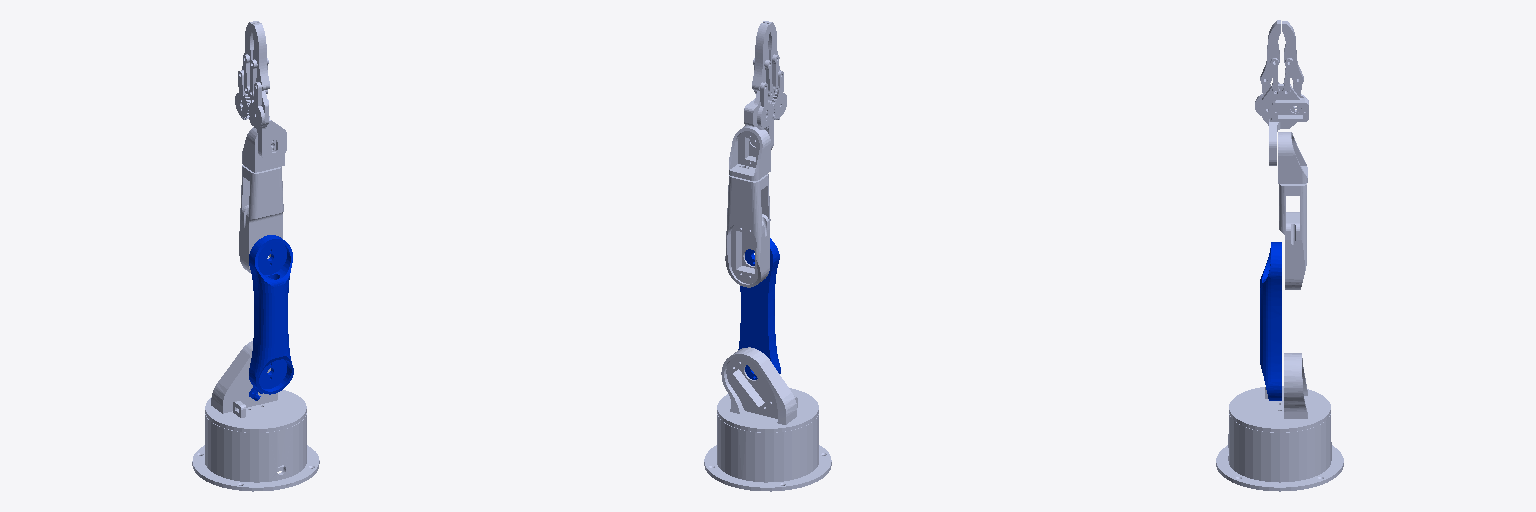
--- What the picture shows (computed from the rendered views, not written in the file) ---
Views: 3 orthographic renders of the robot side by side, from view 1: azimuth 30°, elevation 25°; view 2: azimuth 150°, elevation 25°; view 3: azimuth 270°, elevation 25°.
Robot: maa_robo — 15 links, 14 joints (6 revolute, 7 continuous, 1 fixed); root link world; default pose: every joint at zero.
Links seen in each view (by area): view 1: base, l1, waist, l2, gbase, wrist, e2; view 2: base, waist, l2, l1, wrist, e1, gbase; view 3: base, waist, l1, l2, gbase, wrist, e1, e2.
Link boxes in pixels (x1,y1,x2,y2): base: [192, 413, 319, 491]; l1: [249, 235, 293, 400]; waist: [205, 341, 306, 432]; l2: [239, 165, 283, 272]; gbase: [247, 82, 286, 160]; wrist: [242, 127, 284, 172]; e2: [252, 22, 269, 90]; base: [704, 414, 831, 491]; waist: [717, 347, 818, 432]; l2: [725, 174, 770, 287]; l1: [738, 238, 780, 379]; wrist: [729, 125, 770, 180]; e1: [752, 23, 769, 90]; gbase: [744, 82, 774, 149]; base: [1216, 414, 1343, 491]; waist: [1229, 353, 1330, 432]; l1: [1260, 242, 1281, 400]; l2: [1279, 183, 1306, 289]; gbase: [1262, 84, 1308, 165]; wrist: [1278, 132, 1307, 183]; e1: [1282, 21, 1303, 84]; e2: [1260, 20, 1280, 84].
Size in the robot's own frame: 0.1213 by 0.1213 by 0.4638 metres.
Meshes: 14 distinct files referenced, 14 mesh visuals loaded (14 binary STL).

URDF robot description (maa_robo):
<?xml version="1.0" encoding="utf-8" ?>
<!-- This URDF was automatically created by SolidWorks to URDF Exporter! Originally created by Stephen Brawner ([email redacted]) 
     Commit Version: 1.6.0-4-g7f85cfe  Build Version: 1.6.7995.38578
     For more information, please see http://wiki.ros.org/sw_urdf_exporter -->
<robot name="maa_robo">
    <link name="world" />
    <joint name="base_joint" type="fixed">
        <parent link="world" />
        <child link="base" />
        <origin rpy="0 0 0" xyz="0.0 0.0 0.0" />
    </joint>
    <link name="base">
        <inertial>
            <origin xyz="7.68725237632051E-09 -0.000117196159259848 0.0223035726629275" rpy="0 0 0" />
            <mass value="0.0960374647687132" />
            <inertia ixx="0.000137660900428952" ixy="-6.84507669729897E-11" ixz="4.47337777543071E-12" iyy="0.000127992374265441" iyz="-3.9139675561881E-06" izz="0.000207983638444363" />
        </inertial>
        <visual>
            <origin xyz="0 0 0" rpy="0 0 0" />
            <geometry>
                <mesh filename="package://maa_robo/meshes/base.STL" />
            </geometry>
            <material name="">
                <color rgba="0.792156862745098 0.819607843137255 0.933333333333333 1" />
            </material>
        </visual>
        <collision>
            <origin xyz="0 0 0" rpy="0 0 0" />
            <geometry>
                <mesh filename="package://maa_robo/meshes/base.STL" />
            </geometry>
        </collision>
    </link>
    <link name="waist">
        <inertial>
            <origin xyz="0.00137198894444329 0.00643461749228535 0.0172894151625552" rpy="0 0 0" />
            <mass value="0.0680383082919642" />
            <inertia ixx="4.50177278884508E-05" ixy="-6.41756883366727E-07" ixz="-6.242745329176E-06" iyy="5.81331875484946E-05" iyz="-5.17766096312002E-06" izz="5.46763891539818E-05" />
        </inertial>
        <visual>
            <origin xyz="0 0 0" rpy="0 0 0" />
            <geometry>
                <mesh filename="package://maa_robo/meshes/waist.STL" />
            </geometry>
            <material name="">
                <color rgba="0.792156862745098 0.819607843137255 0.933333333333333 1" />
            </material>
        </visual>
        <collision>
            <origin xyz="0 0 0" rpy="0 0 0" />
            <geometry>
                <mesh filename="package://maa_robo/meshes/waist.STL" />
            </geometry>
        </collision>
    </link>
    <joint name="base_waist" type="revolute">
        <origin xyz="0 0 0.056" rpy="0 0 0" />
        <parent link="base" />
        <child link="waist" />
        <axis xyz="0 0 1" />
        <limit lower="-1.57" upper="1.57" effort="100" velocity="10" />
    </joint>
    <link name="l1">
        <inertial>
            <origin xyz="-0.000130106407256289 -0.00596879502387518 0.0585900559342434" rpy="0 0 0" />
            <mass value="0.0643926898356934" />
            <inertia ixx="0.000107038199873111" ixy="-2.38430401316143E-10" ixz="-1.65474705517812E-09" iyy="0.000111844791276673" iyz="-2.39605334002934E-07" izz="9.10999555994351E-06" />
        </inertial>
        <visual>
            <origin xyz="0 0 0" rpy="0 0 0" />
            <geometry>
                <mesh filename="package://maa_robo/meshes/l1.STL" />
            </geometry>
            <material name="">
                <color rgba="0 0.254901960784314 0.92156862745098 1" />
            </material>
        </visual>
        <collision>
            <origin xyz="0 0 0" rpy="0 0 0" />
            <geometry>
                <mesh filename="package://maa_robo/meshes/l1.STL" />
            </geometry>
        </collision>
    </link>
    <joint name="waist_l1" type="revolute">
        <origin xyz="0.0139185063019886 0 0.0402764801759331" rpy="0 0 0" />
        <parent link="waist" />
        <child link="l1" />
        <axis xyz="0 -1 0" />
        <limit lower="-1.57" upper="1.57" effort="100" velocity="10" />
    </joint>
    <link name="l2">
        <inertial>
            <origin xyz="-2.78467675450256E-05 0.0124088533653967 0.0392853069242696" rpy="0 0 0" />
            <mass value="0.0502682806615447" />
            <inertia ixx="5.46008375858883E-05" ixy="5.45448123955486E-11" ixz="6.95836541632603E-08" iyy="5.81489722176159E-05" iyz="-2.87532410943136E-07" izz="9.28677087867067E-06" />
        </inertial>
        <visual>
            <origin xyz="0 0 0" rpy="0 0 0" />
            <geometry>
                <mesh filename="package://maa_robo/meshes/l2.STL" />
            </geometry>
            <material name="">
                <color rgba="0.792156862745098 0.819607843137255 0.933333333333333 1" />
            </material>
        </visual>
        <collision>
            <origin xyz="0 0 0" rpy="0 0 0" />
            <geometry>
                <mesh filename="package://maa_robo/meshes/l2.STL" />
            </geometry>
        </collision>
    </link>
    <joint name="l1_l2" type="revolute">
        <origin xyz="0 0 0.12" rpy="0 0 0" />
        <parent link="l1" />
        <child link="l2" />
        <axis xyz="0 -1 0" />
        <limit lower="-1.57" upper="1.57" effort="100" velocity="10" />
    </joint>
    <link name="wrist">
        <inertial>
            <origin xyz="-0.00504588853149997 -0.00526464962477612 0.0178410779408339" rpy="0 0 0" />
            <mass value="0.0164993958869603" />
            <inertia ixx="3.91219989876637E-06" ixy="3.98661484984632E-09" ixz="-1.15840362114129E-08" iyy="5.02234105520811E-06" iyz="5.75786773493404E-07" izz="2.61243222808143E-06" />
        </inertial>
        <visual>
            <origin xyz="0 0 0" rpy="0 0 0" />
            <geometry>
                <mesh filename="package://maa_robo/meshes/wrist.STL" />
            </geometry>
            <material name="">
                <color rgba="0.792156862745098 0.819607843137255 0.933333333333333 1" />
            </material>
        </visual>
        <collision>
            <origin xyz="0 0 0" rpy="0 0 0" />
            <geometry>
                <mesh filename="package://maa_robo/meshes/wrist.STL" />
            </geometry>
        </collision>
    </link>
    <joint name="l2_wrist" type="revolute">
        <origin xyz="0.00510000000056034 0.0125 0.0915999999999688" rpy="0 0 0" />
        <parent link="l2" />
        <child link="wrist" />
        <axis xyz="0 0 1" />
        <limit lower="-1.57" upper="1.57" effort="100" velocity="10" />
    </joint>
    <link name="gbase">
        <inertial>
            <origin xyz="-0.00581676000557846 -0.0133733926702193 0.023551132424968" rpy="0 0 0" />
            <mass value="0.0157214039263101" />
            <inertia ixx="8.11576233259366E-06" ixy="3.50347396819704E-07" ixz="1.36413018972221E-06" iyy="7.24744386013897E-06" iyz="-1.4285481948546E-06" izz="2.56045826172451E-06" />
        </inertial>
        <visual>
            <origin xyz="0 0 0" rpy="0 0 0" />
            <geometry>
                <mesh filename="package://maa_robo/meshes/gbase.STL" />
            </geometry>
            <material name="">
                <color rgba="0.792156862745098 0.819607843137255 0.933333333333333 1" />
            </material>
        </visual>
        <collision>
            <origin xyz="0 0 0" rpy="0 0 0" />
            <geometry>
                <mesh filename="package://maa_robo/meshes/gbase.STL" />
            </geometry>
        </collision>
    </link>
    <joint name="wrist_gbase" type="revolute">
        <origin xyz="-0.00499999999982817 0 0.0280999999985383" rpy="0 0 0" />
        <parent link="wrist" />
        <child link="gbase" />
        <axis xyz="0 -1 0" />
        <limit lower="-1.57" upper="1.57" effort="100" velocity="10" />
    </joint>
    <link name="g1">
        <inertial>
            <origin xyz="-0.00199999999683453 -0.000161235027441656 0.00569538349082349" rpy="0 0 0" />
            <mass value="0.00256585966934385" />
            <inertia ixx="4.46162551545415E-07" ixy="-1.20130144310868E-18" ixz="-9.67479293293822E-18" iyy="3.60124622567171E-07" iyz="-3.07394390301934E-08" izz="9.28802214298281E-08" />
        </inertial>
        <visual>
            <origin xyz="0 0 0" rpy="0 0 0" />
            <geometry>
                <mesh filename="package://maa_robo/meshes/g1.STL" />
            </geometry>
            <material name="">
                <color rgba="0.792156862745098 0.819607843137255 0.933333333333333 1" />
            </material>
        </visual>
        <collision>
            <origin xyz="0 0 0" rpy="0 0 0" />
            <geometry>
                <mesh filename="package://maa_robo/meshes/g1.STL" />
            </geometry>
        </collision>
    </link>
    <joint name="gbase_g1" type="revolute">
        <origin xyz="-0.0174999999994603 0.00255000000000001 0.0380000000001071" rpy="0 0 0" />
        <parent link="gbase" />
        <child link="g1" />
        <axis xyz="-1 0 0" />
        <limit lower="0" upper="1.2" effort="100" velocity="10" />
    </joint>
    <link name="e1">
        <inertial>
            <origin xyz="0.00824997740859393 -0.00641733113152839 0.0265001380598517" rpy="0 0 0" />
            <mass value="0.00539747144897691" />
            <inertia ixx="1.71391043056579E-06" ixy="-1.39870677399308E-11" ixz="1.08370914619553E-12" iyy="1.64752389372081E-06" iyz="2.52446907551089E-07" izz="1.31381061776948E-07" />
        </inertial>
        <visual>
            <origin xyz="0 0 0" rpy="0 0 0" />
            <geometry>
                <mesh filename="package://maa_robo/meshes/e1.STL" />
            </geometry>
            <material name="">
                <color rgba="0.792156862745098 0.819607843137255 0.933333333333333 1" />
            </material>
        </visual>
        <collision>
            <origin xyz="0 0 0" rpy="0 0 0" />
            <geometry>
                <mesh filename="package://maa_robo/meshes/e1.STL" />
            </geometry>
        </collision>
    </link>
    <joint name="g1_e1" type="continuous">
        <origin xyz="-0.00399999999556312 0.00239679273381367 0.0306564493153397" rpy="0 0 0" />
        <parent link="g1" />
        <child link="e1" />
        <axis xyz="1 0 0" />
        <limit lower="-1.57" upper="1.57" effort="100" velocity="10" />
        <mimic joint="gbase_g1" multiplier="1" offset="0" />
    </joint>
    <link name="g2">
        <inertial>
            <origin xyz="-0.00199999999585265 0.000286426960356828 0.00560381935948695" rpy="0 0 0" />
            <mass value="0.00264161328462974" />
            <inertia ixx="4.47239667493299E-07" ixy="2.99284283016667E-19" ixz="-9.49077022501083E-18" iyy="3.62323596177571E-07" iyz="2.46355432043757E-08" izz="9.19603734080734E-08" />
        </inertial>
        <visual>
            <origin xyz="0 0 0" rpy="0 0 0" />
            <geometry>
                <mesh filename="package://maa_robo/meshes/g2.STL" />
            </geometry>
            <material name="">
                <color rgba="0.792156862745098 0.819607843137255 0.933333333333333 1" />
            </material>
        </visual>
        <collision>
            <origin xyz="0 0 0" rpy="0 0 0" />
            <geometry>
                <mesh filename="package://maa_robo/meshes/g2.STL" />
            </geometry>
        </collision>
    </link>
    <joint name="gbase_g2" type="continuous">
        <origin xyz="-0.0175000000005596 -0.024350000000004 0.0380000000000114" rpy="0 0 0" />
        <parent link="gbase" />
        <child link="g2" />
        <axis xyz="-1 0 0" />
        <limit lower="-1.57" upper="1.57" effort="100" velocity="10" />
        <mimic joint="gbase_g1" multiplier="-1" offset="0" />
    </joint>
    <link name="e2">
        <inertial>
            <origin xyz="0.00825002259168447 0.00627581448406113 0.0265340084729163" rpy="0 0 0" />
            <mass value="0.00539747142778352" />
            <inertia ixx="1.71391041628828E-06" ixy="-1.39809990450883E-11" ixz="-1.1586024557424E-12" iyy="1.65017517269228E-06" iyz="-2.44341343971673E-07" izz="1.28729768374852E-07" />
        </inertial>
        <visual>
            <origin xyz="0 0 0" rpy="0 0 0" />
            <geometry>
                <mesh filename="package://maa_robo/meshes/e2.STL" />
            </geometry>
            <material name="">
                <color rgba="0.792156862745098 0.819607843137255 0.933333333333333 1" />
            </material>
        </visual>
        <collision>
            <origin xyz="0 0 0" rpy="0 0 0" />
            <geometry>
                <mesh filename="package://maa_robo/meshes/e2.STL" />
            </geometry>
        </collision>
    </link>
    <joint name="g2_e2" type="continuous">
        <origin xyz="-0.00399999999461456 -0.00173398551481527 0.030701071549261" rpy="0 0 0" />
        <parent link="g2" />
        <child link="e2" />
        <axis xyz="-1 0 0" />
        <limit lower="-1.57" upper="1.57" effort="100" velocity="10" />
        <mimic joint="gbase_g1" multiplier="1" offset="0" />
    </joint>
    <link name="s1">
        <inertial>
            <origin xyz="-0.00199999999495828 0.00132555466767997 0.0154432154954331" rpy="0 0 0" />
            <mass value="0.000798762413184692" />
            <inertia ixx="1.04424225659604E-07" ixy="-2.38140373087695E-19" ixz="-2.73949753414788E-18" iyy="1.02195591529061E-07" iyz="-8.46007494223569E-09" izz="4.35866723236837E-09" />
        </inertial>
        <visual>
            <origin xyz="0 0 0" rpy="0 0 0" />
            <geometry>
                <mesh filename="package://maa_robo/meshes/s1.STL" />
            </geometry>
            <material name="">
                <color rgba="0.792156862745098 0.819607843137255 0.933333333333333 1" />
            </material>
        </visual>
        <collision>
            <origin xyz="0 0 0" rpy="0 0 0" />
            <geometry>
                <mesh filename="package://maa_robo/meshes/s1.STL" />
            </geometry>
        </collision>
    </link>
    <joint name="gbase_s1" type="continuous">
        <origin xyz="-0.0175000000005648 -0.00635000000000067 0.0580000000000249" rpy="0 0 0" />
        <parent link="gbase" />
        <child link="s1" />
        <axis xyz="-1 0 0" />
        <limit lower="-1.57" upper="1.57" effort="100" velocity="10" />
        <mimic joint="gbase_g1" multiplier="1" offset="0" />
    </joint>
    <link name="s2">
        <inertial>
            <origin xyz="-0.00200000000129294 -0.000598194042163623 0.0154884525982406" rpy="0 0 0" />
            <mass value="0.000798762413184691" />
            <inertia ixx="1.04424225659604E-07" ixy="9.6313402214335E-20" ixz="-2.70212808107845E-18" iyy="1.02773869920507E-07" iyz="3.82903159087908E-09" izz="3.78038884092272E-09" />
        </inertial>
        <visual>
            <origin xyz="0 0 0" rpy="0 0 0" />
            <geometry>
                <mesh filename="package://maa_robo/meshes/s2.STL" />
            </geometry>
            <material name="">
                <color rgba="0.792156862745098 0.819607843137255 0.933333333333333 1" />
            </material>
        </visual>
        <collision>
            <origin xyz="0 0 0" rpy="0 0 0" />
            <geometry>
                <mesh filename="package://maa_robo/meshes/s2.STL" />
            </geometry>
        </collision>
    </link>
    <joint name="gbase_s2" type="continuous">
        <origin xyz="-0.0175 -0.01635 0.058" rpy="0 0 0" />
        <parent link="gbase" />
        <child link="s2" />
        <axis xyz="-1 0 0" />
        <limit lower="-1.57" upper="1.57" effort="100" velocity="10" />
        <mimic joint="gbase_g1" multiplier="-1" offset="0" />
    </joint>
    <link name="s3">
        <inertial>
            <origin xyz="-0.00200000000128649 0.00132555466771932 0.0154432154949791" rpy="0 0 0" />
            <mass value="0.000798762413184691" />
            <inertia ixx="1.04424225659603E-07" ixy="-2.38133840302571E-19" ixz="-2.73947547103814E-18" iyy="1.02195591529061E-07" iyz="-8.46007494223565E-09" izz="4.35866723236836E-09" />
        </inertial>
        <visual>
            <origin xyz="0 0 0" rpy="0 0 0" />
            <geometry>
                <mesh filename="package://maa_robo/meshes/s3.STL" />
            </geometry>
            <material name="">
                <color rgba="0.792156862745098 0.819607843137255 0.933333333333333 1" />
            </material>
        </visual>
        <collision>
            <origin xyz="0 0 0" rpy="0 0 0" />
            <geometry>
                <mesh filename="package://maa_robo/meshes/s3.STL" />
            </geometry>
        </collision>
    </link>
    <joint name="gbase_s3" type="continuous">
        <origin xyz="-0.005 -0.00635 0.058" rpy="0 0 0" />
        <parent link="gbase" />
        <child link="s3" />
        <axis xyz="-1 0 0" />
        <limit lower="-1.57" upper="1.57" effort="100" velocity="10" />
        <mimic joint="gbase_g1" multiplier="1" offset="0" />
    </joint>
    <link name="s4">
        <inertial>
            <origin xyz="-0.00200000000129294 -0.000598194042156296 0.0154884525982762" rpy="0 0 0" />
            <mass value="0.000798762413184692" />
            <inertia ixx="1.04424225659604E-07" ixy="9.63110016081955E-20" ixz="-2.70211063966424E-18" iyy="1.02773869920507E-07" iyz="3.82903159087907E-09" izz="3.78038884092272E-09" />
        </inertial>
        <visual>
            <origin xyz="0 0 0" rpy="0 0 0" />
            <geometry>
                <mesh filename="package://maa_robo/meshes/s4.STL" />
            </geometry>
            <material name="">
                <color rgba="0.792156862745098 0.819607843137255 0.933333333333333 1" />
            </material>
        </visual>
        <collision>
            <origin xyz="0 0 0" rpy="0 0 0" />
            <geometry>
                <mesh filename="package://maa_robo/meshes/s4.STL" />
            </geometry>
        </collision>
    </link>
    <joint name="gbase_s4" type="continuous">
        <origin xyz="-0.00499999999428026 -0.0163500000000442 0.0580000000001468" rpy="0 0 0" />
        <parent link="gbase" />
        <child link="s4" />
        <axis xyz="-1 0 0" />
        <limit lower="-1.57" upper="1.57" effort="100" velocity="10" />
        <mimic joint="gbase_g1" multiplier="-1" offset="0" />
    </joint>
    <transmission name="waist_trans">
        <type>transmission_interface/SimpleTransmission</type>
        <joint name="base_waist">
            <hardwareInterface>hardware_interface/PositionJointInterface</hardwareInterface>
        </joint>
        <actuator name="waist_motor">
            <hardwareInterface>hardware_interface/PositionJointInterface</hardwareInterface>
            <mechanicalReduction>1</mechanicalReduction>
        </actuator>
    </transmission>
    <transmission name="l1_trans">
        <type>transmission_interface/SimpleTransmission</type>
        <joint name="waist_l1">
            <hardwareInterface>hardware_interface/PositionJointInterface</hardwareInterface>
        </joint>
        <actuator name="l1_motor">
            <hardwareInterface>hardware_interface/PositionJointInterface</hardwareInterface>
            <mechanicalReduction>1</mechanicalReduction>
        </actuator>
    </transmission>
    <transmission name="l2_trans">
        <type>transmission_interface/SimpleTransmission</type>
        <joint name="l1_l2">
            <hardwareInterface>hardware_interface/PositionJointInterface</hardwareInterface>
        </joint>
        <actuator name="l2_motor">
            <hardwareInterface>hardware_interface/PositionJointInterface</hardwareInterface>
            <mechanicalReduction>1</mechanicalReduction>
        </actuator>
    </transmission>
    <transmission name="wrist_trans">
        <type>transmission_interface/SimpleTransmission</type>
        <joint name="l2_wrist">
            <hardwareInterface>hardware_interface/PositionJointInterface</hardwareInterface>
        </joint>
        <actuator name="wrist_motor">
            <hardwareInterface>hardware_interface/PositionJointInterface</hardwareInterface>
            <mechanicalReduction>1</mechanicalReduction>
        </actuator>
    </transmission>
    <transmission name="gbase_trans">
        <type>transmission_interface/SimpleTransmission</type>
        <joint name="wrist_gbase">
            <hardwareInterface>hardware_interface/PositionJointInterface</hardwareInterface>
        </joint>
        <actuator name="gbase_motor">
            <hardwareInterface>hardware_interface/PositionJointInterface</hardwareInterface>
            <mechanicalReduction>1</mechanicalReduction>
        </actuator>
    </transmission>
    <transmission name="g1_trans">
        <type>transmission_interface/SimpleTransmission</type>
        <joint name="gbase_g1">
            <hardwareInterface>hardware_interface/PositionJointInterface</hardwareInterface>
        </joint>
        <actuator name="g1_motor">
            <hardwareInterface>hardware_interface/PositionJointInterface</hardwareInterface>
            <mechanicalReduction>1</mechanicalReduction>
        </actuator>
    </transmission>
    <transmission name="e1_trans">
        <type>transmission_interface/SimpleTransmission</type>
        <joint name="g1_e1">
            <hardwareInterface>hardware_interface/PositionJointInterface</hardwareInterface>
        </joint>
        <actuator name="e1_motor">
            <hardwareInterface>hardware_interface/PositionJointInterface</hardwareInterface>
            <mechanicalReduction>1</mechanicalReduction>
        </actuator>
    </transmission>
    <transmission name="g2_trans">
        <type>transmission_interface/SimpleTransmission</type>
        <joint name="gbase_g2">
            <hardwareInterface>hardware_interface/PositionJointInterface</hardwareInterface>
        </joint>
        <actuator name="g2_motor">
            <hardwareInterface>hardware_interface/PositionJointInterface</hardwareInterface>
            <mechanicalReduction>1</mechanicalReduction>
        </actuator>
    </transmission>
    <transmission name="e2_trans">
        <type>transmission_interface/SimpleTransmission</type>
        <joint name="g2_e2">
            <hardwareInterface>hardware_interface/PositionJointInterface</hardwareInterface>
        </joint>
        <actuator name="e2_motor">
            <hardwareInterface>hardware_interface/PositionJointInterface</hardwareInterface>
            <mechanicalReduction>1</mechanicalReduction>
        </actuator>
    </transmission>
    <transmission name="s1_trans">
        <type>transmission_interface/SimpleTransmission</type>
        <joint name="gbase_s1">
            <hardwareInterface>hardware_interface/PositionJointInterface</hardwareInterface>
        </joint>
        <actuator name="s1_motor">
            <hardwareInterface>hardware_interface/PositionJointInterface</hardwareInterface>
            <mechanicalReduction>1</mechanicalReduction>
        </actuator>
    </transmission>
    <transmission name="s2_trans">
        <type>transmission_interface/SimpleTransmission</type>
        <joint name="gbase_s2">
            <hardwareInterface>hardware_interface/PositionJointInterface</hardwareInterface>
        </joint>
        <actuator name="s2_motor">
            <hardwareInterface>hardware_interface/PositionJointInterface</hardwareInterface>
            <mechanicalReduction>1</mechanicalReduction>
        </actuator>
    </transmission>
    <transmission name="s3_trans">
        <type>transmission_interface/SimpleTransmission</type>
        <joint name="gbase_s3">
            <hardwareInterface>hardware_interface/PositionJointInterface</hardwareInterface>
        </joint>
        <actuator name="s3_motor">
            <hardwareInterface>hardware_interface/PositionJointInterface</hardwareInterface>
            <mechanicalReduction>1</mechanicalReduction>
        </actuator>
    </transmission>
    <transmission name="s4_trans">
        <type>transmission_interface/SimpleTransmission</type>
        <joint name="gbase_s4">
            <hardwareInterface>hardware_interface/PositionJointInterface</hardwareInterface>
        </joint>
        <actuator name="s4_motor">
            <hardwareInterface>hardware_interface/PositionJointInterface</hardwareInterface>
            <mechanicalReduction>1</mechanicalReduction>
        </actuator>
    </transmission>
    <gazebo>
        <plugin name="control" filename="libgazebo_ros_control.so">
            <robotNamespace>/</robotNamespace>
        </plugin>
        <plugin name="gazebo_ros_control">
            <robotNamespace>/</robotNamespace>
        </plugin>
    </gazebo>
    <gazebo reference="waist">
        <selfCollide>true</selfCollide>
    </gazebo>
    <gazebo reference="l1">
        <selfCollide>true</selfCollide>
    </gazebo>
    <gazebo reference="l2">
        <selfCollide>true</selfCollide>
    </gazebo>
    <gazebo reference="wrist">
        <selfCollide>true</selfCollide>
    </gazebo>
    <gazebo reference="gbase">
        <selfCollide>true</selfCollide>
    </gazebo>
    <gazebo reference="g1">
        <selfCollide>true</selfCollide>
    </gazebo>
    <gazebo reference="e1">
        <selfCollide>true</selfCollide>
    </gazebo>
    <gazebo reference="g2">
        <selfCollide>true</selfCollide>
    </gazebo>
    <gazebo reference="e2">
        <selfCollide>true</selfCollide>
    </gazebo>
    <gazebo reference="s1">
        <selfCollide>true</selfCollide>
    </gazebo>
    <gazebo reference="s2">
        <selfCollide>true</selfCollide>
    </gazebo>
    <gazebo reference="s3">
        <selfCollide>true</selfCollide>
    </gazebo>
    <gazebo reference="s4">
        <selfCollide>true</selfCollide>
    </gazebo>
</robot>
